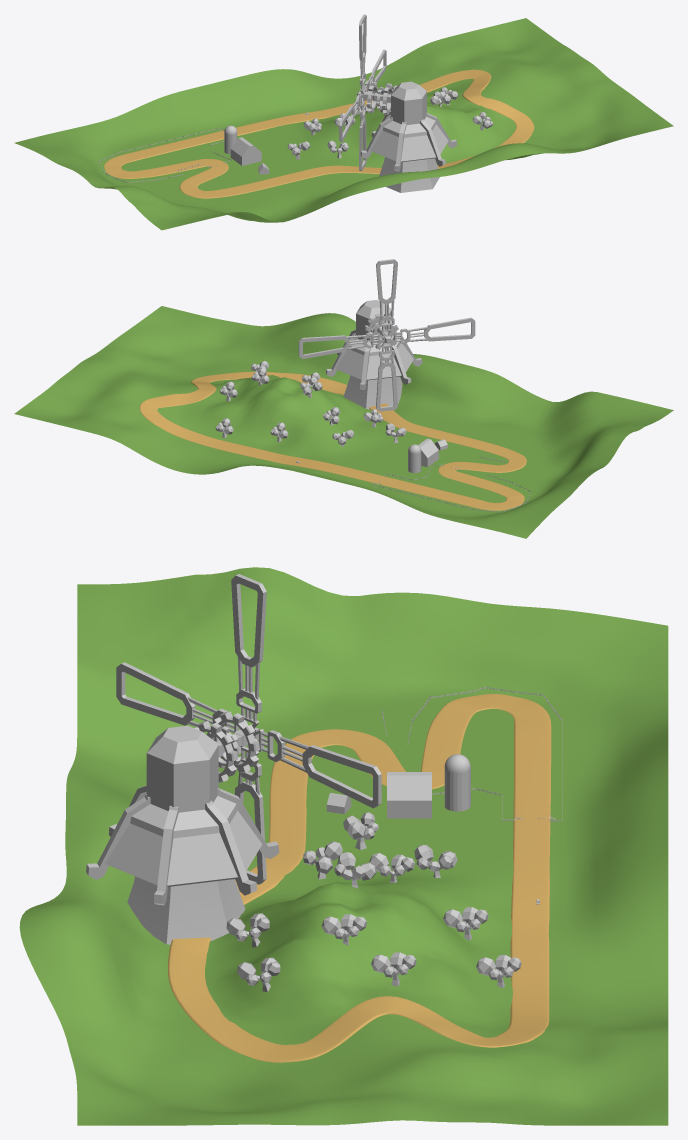
File: Easy_track.fbx
3 views of the same model, one above another, from view 1: azimuth 30°, elevation 25°; view 2: azimuth 150°, elevation 25°; view 3: azimuth 270°, elevation 25° (orthographic). The views are drawn at different scales.
Visible parts, largest first — view 1: pPlane13, pCube3, pCylinder6, pCube42, pCube35, pCube27; view 2: pPlane13, pCube3, pCylinder6, pCube35, pCube30, pCube34, pCube27; view 3: pPlane13, pCube3, pCylinder6, pCube42, pCube34, pCube30, pCube27, pCube35, pSphere1, pCube8, pCube20, pCube22 (+11 smaller).
Boxes of the visible parts, bbox=[...] form: pPlane13: bbox=[14, 18, 673, 230]; pCube3: bbox=[104, 69, 534, 198]; pCylinder6: bbox=[370, 81, 448, 192]; pCube42: bbox=[230, 137, 261, 165]; pCube35: bbox=[359, 99, 366, 171]; pCube27: bbox=[359, 14, 366, 61]; pPlane13: bbox=[14, 306, 673, 538]; pCube3: bbox=[139, 371, 526, 510]; pCylinder6: bbox=[336, 300, 413, 409]; pCube35: bbox=[376, 341, 397, 411]; pCube30: bbox=[424, 317, 475, 341]; pCube34: bbox=[298, 335, 349, 358]; pCube27: bbox=[376, 259, 397, 303]; pPlane13: bbox=[19, 567, 668, 1125]; pCube3: bbox=[168, 694, 551, 1062]; pCylinder6: bbox=[105, 725, 262, 944]; pCube42: bbox=[387, 772, 431, 818]; pCube34: bbox=[302, 745, 381, 808]; pCube30: bbox=[116, 662, 195, 725]; pCube27: bbox=[231, 574, 266, 667]; pCube35: bbox=[234, 746, 266, 884]; pSphere1: bbox=[444, 754, 470, 811]; pCube8: bbox=[205, 801, 256, 895]; pCube20: bbox=[86, 794, 150, 879]; pCube22: bbox=[154, 805, 178, 905].
Bounding box in the file's own units: 357 × 108 × 196.
